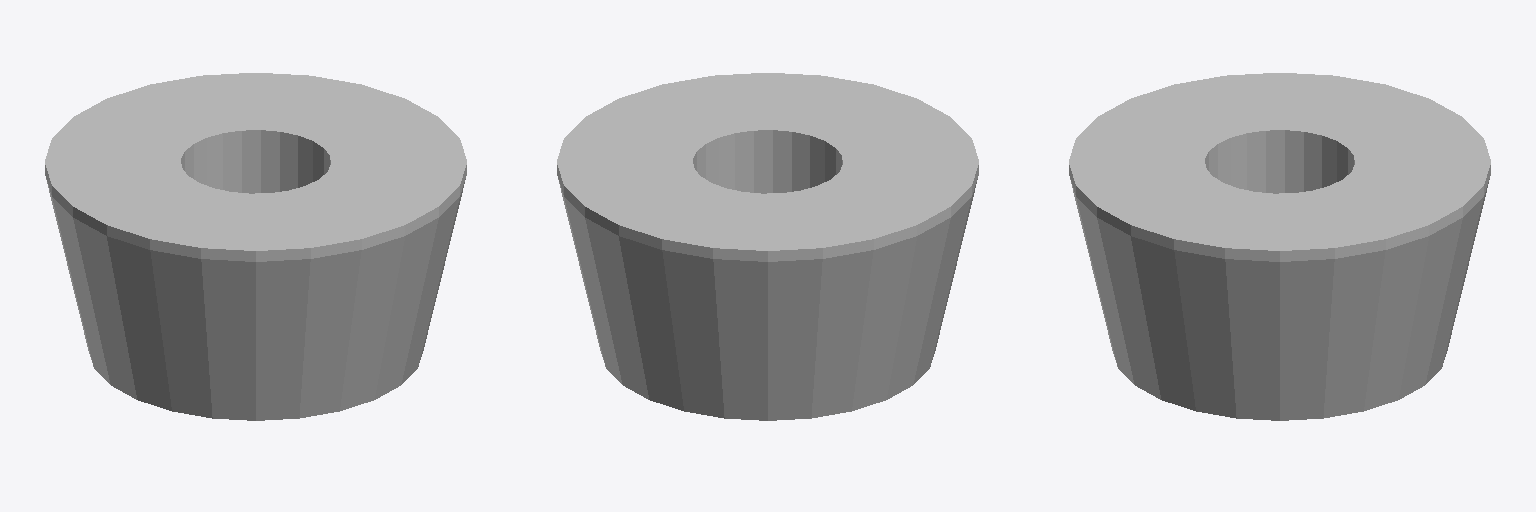
Rendered from Kurk.obj.
The picture shows the model from 3 angles: view 1: azimuth 30°, elevation 25°; view 2: azimuth 150°, elevation 25°; view 3: azimuth 270°, elevation 25°; orthographic projection.
Visible parts, largest first — view 1: rubber_stopper; view 2: rubber_stopper; view 3: rubber_stopper.
Part boxes in pixels (x1,y1,x2,y2): rubber_stopper: (45,73,466,420); rubber_stopper: (557,73,978,420); rubber_stopper: (1069,73,1490,420).
Size of the model in its own units: 0.0388 by 0.019 by 0.0388.